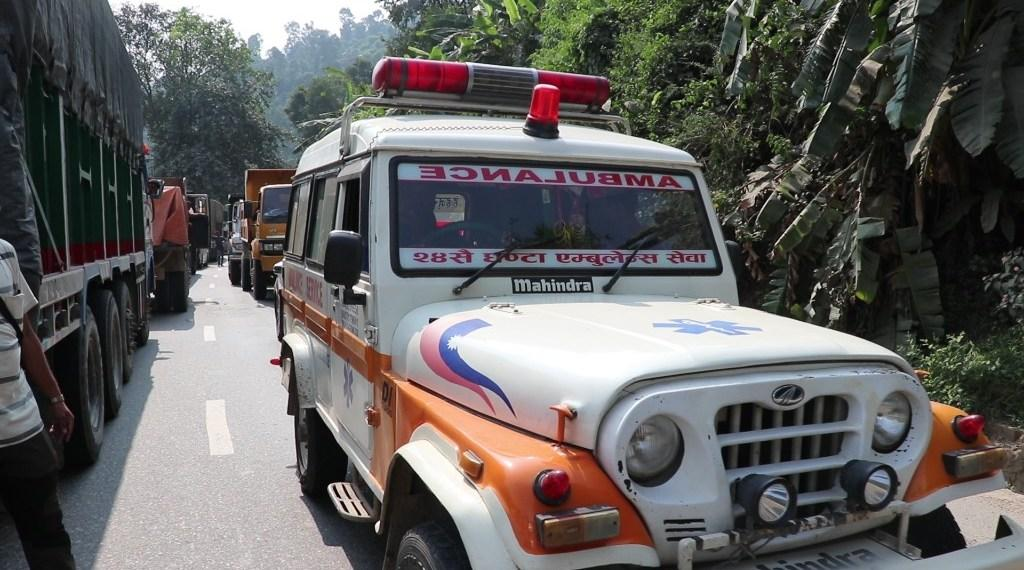ambulance: (254, 52, 1024, 570)
truck: (0, 0, 155, 477), (236, 163, 300, 302), (146, 166, 197, 317)
